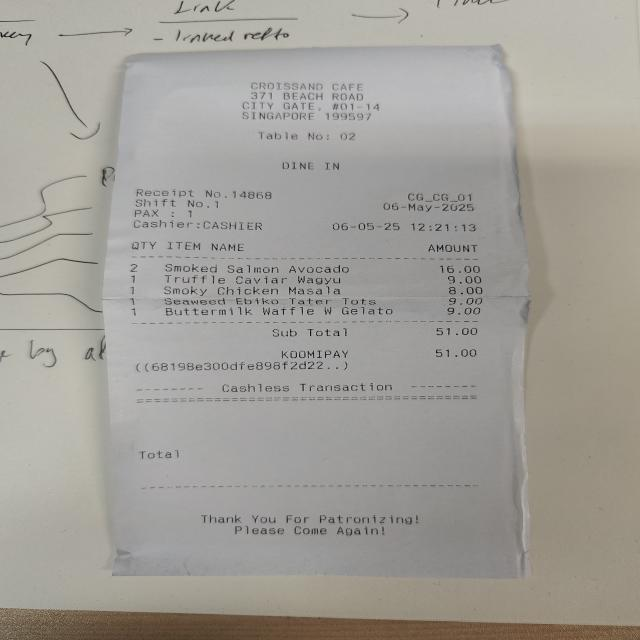bill_region: (120, 258, 492, 341)
